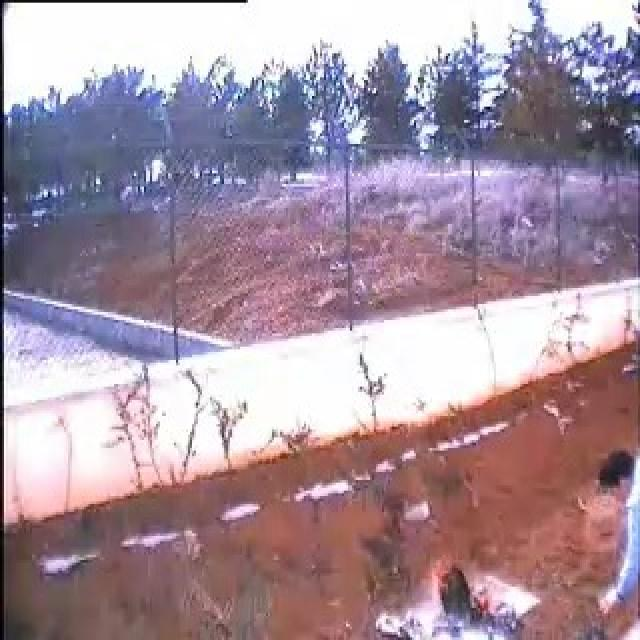fire: (474, 584, 494, 618)
smoke: (446, 561, 466, 595)
